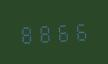eight: (36, 20, 53, 44), (18, 21, 35, 44)
six: (54, 19, 71, 43), (72, 19, 89, 42)
